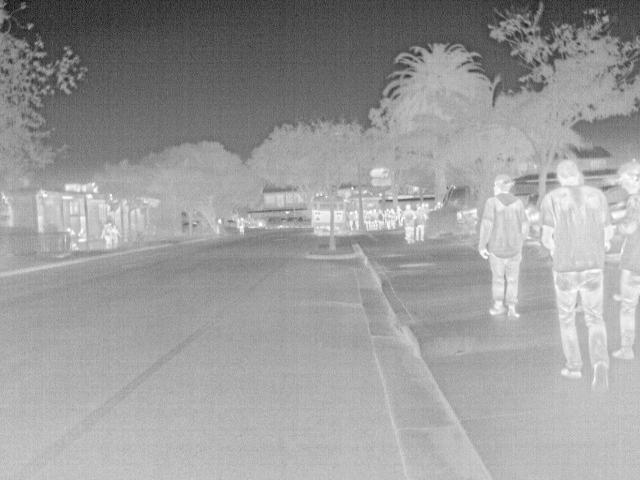person: (534, 161, 615, 393), (476, 174, 532, 317), (605, 160, 638, 358), (399, 202, 416, 246), (414, 203, 429, 243), (97, 223, 113, 249), (233, 213, 248, 233), (350, 208, 362, 233), (374, 208, 387, 230), (344, 209, 356, 232), (389, 207, 399, 232), (72, 225, 86, 242)
